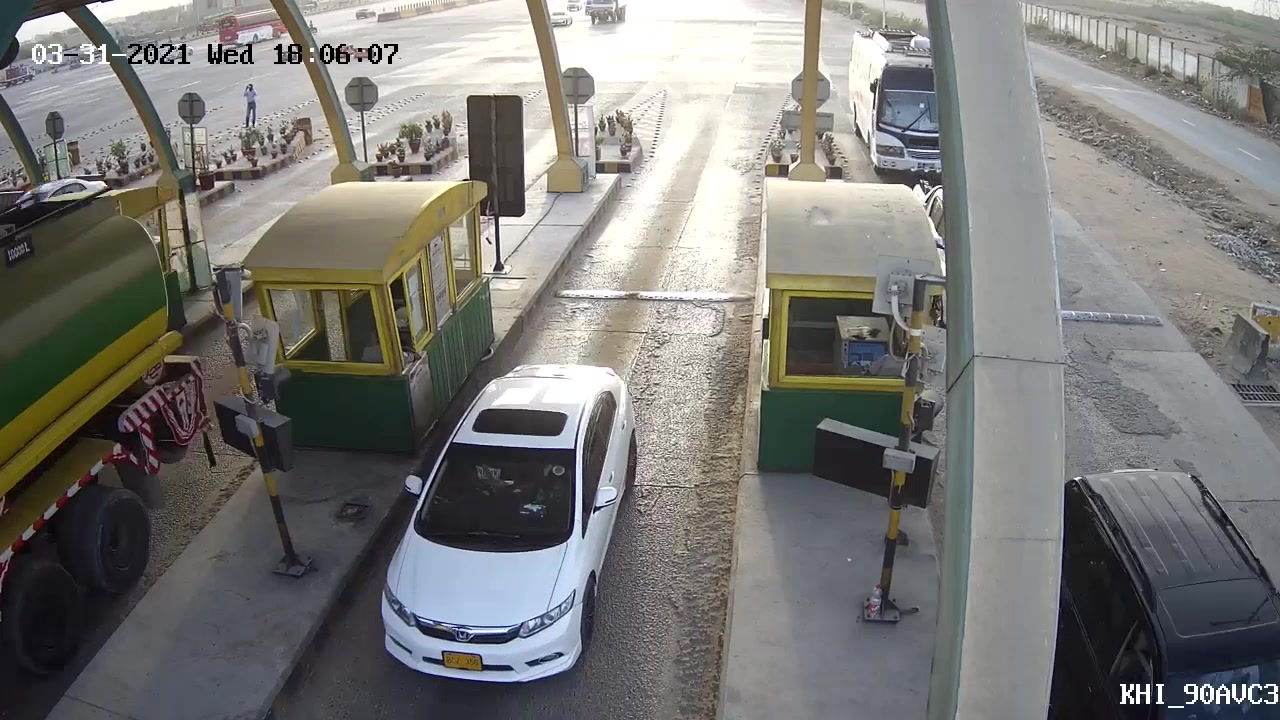F1: (372, 361, 645, 693)
